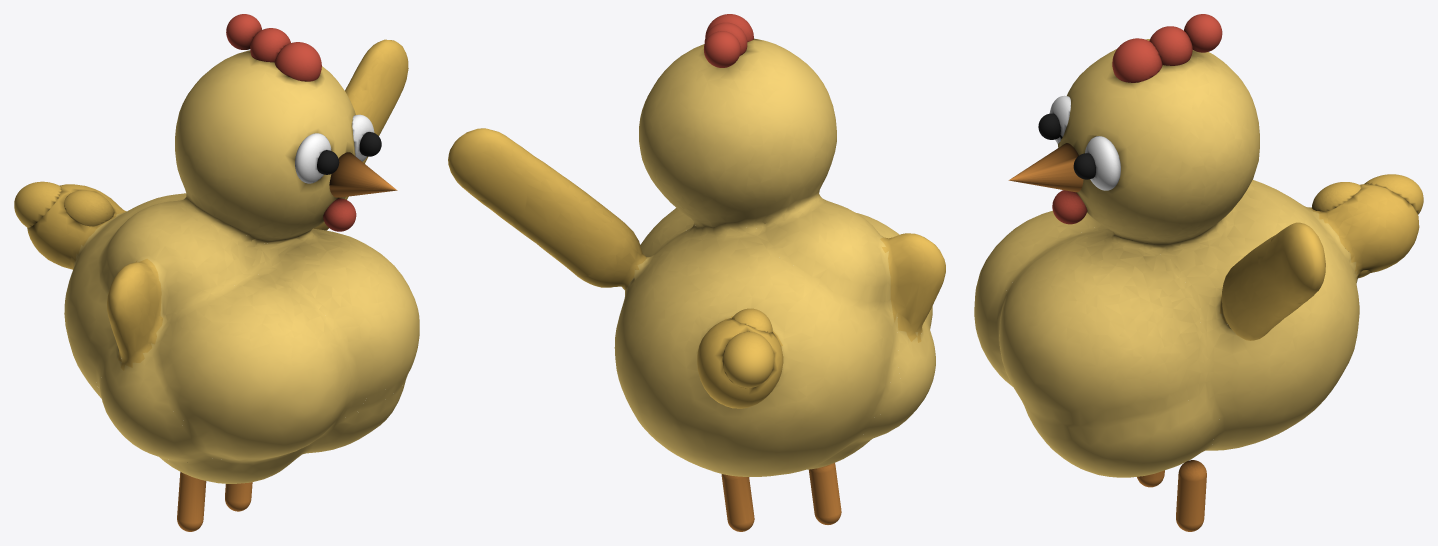
Rendered from kan-jag-fa-en-pase.glb.
The picture shows the model from 3 angles, left to right: view 1: azimuth 30°, elevation 25°; view 2: azimuth 150°, elevation 25°; view 3: azimuth 270°, elevation 25°; orthographic projection. The views are drawn at different scales.
Parts seen in each view (by area): view 1: galinha__r0, galinha__r3, galinha__r9, galinha__r5, galinha__r11, galinha__r8, galinha__r13, galinha__r6, galinha__r7, galinha__r4, galinha__r12, galinha__r1; view 2: galinha__r0, galinha__r9, galinha__r11, galinha__r12, galinha__r7, galinha__r8; view 3: galinha__r0, galinha__r3, galinha__r12, galinha__r5, galinha__r1, galinha__r6, galinha__r7, galinha__r9, galinha__r8, galinha__r4, galinha__r13.
Boxes of the visible parts, bbox=[...] form: galinha__r0: bbox=[27, 39, 419, 483]; galinha__r3: bbox=[329, 152, 397, 197]; galinha__r9: bbox=[14, 181, 61, 227]; galinha__r5: bbox=[274, 42, 321, 81]; galinha__r11: bbox=[177, 472, 206, 531]; galinha__r8: bbox=[64, 190, 114, 226]; galinha__r13: bbox=[295, 133, 331, 183]; galinha__r6: bbox=[250, 28, 290, 62]; galinha__r7: bbox=[226, 14, 261, 49]; galinha__r4: bbox=[323, 198, 356, 231]; galinha__r12: bbox=[225, 482, 252, 511]; galinha__r1: bbox=[352, 114, 374, 161]; galinha__r0: bbox=[448, 38, 945, 476]; galinha__r9: bbox=[722, 331, 774, 388]; galinha__r11: bbox=[809, 463, 841, 524]; galinha__r12: bbox=[721, 474, 754, 531]; galinha__r7: bbox=[704, 31, 740, 67]; galinha__r8: bbox=[732, 308, 772, 333]; galinha__r0: bbox=[974, 39, 1419, 477]; galinha__r3: bbox=[1008, 143, 1083, 192]; galinha__r12: bbox=[1176, 460, 1206, 531]; galinha__r5: bbox=[1112, 38, 1162, 82]; galinha__r1: bbox=[1085, 136, 1120, 190]; galinha__r6: bbox=[1149, 26, 1192, 65]; galinha__r7: bbox=[1184, 14, 1222, 52]; galinha__r9: bbox=[1364, 174, 1423, 214]; galinha__r8: bbox=[1312, 182, 1361, 211]; galinha__r4: bbox=[1052, 190, 1087, 224]; galinha__r13: bbox=[1049, 95, 1070, 143].
Size of the model in its own units: 0.9454 by 1.13 by 0.8823.
